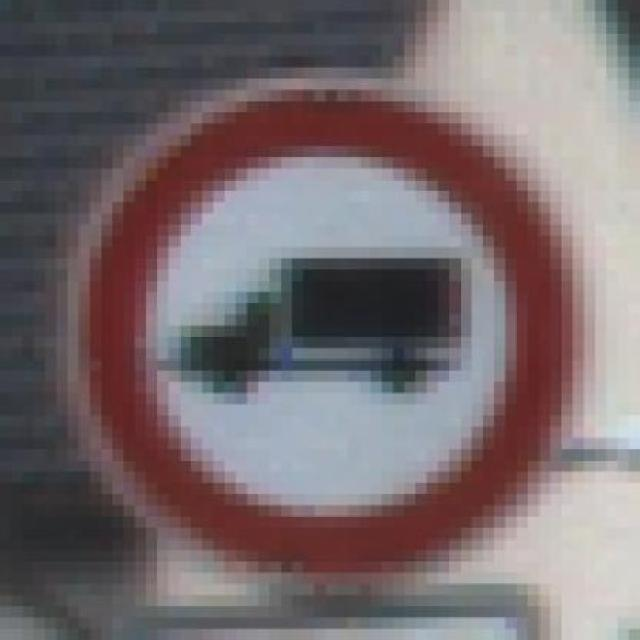Truck traffic is prohibited: (44, 44, 596, 596)
